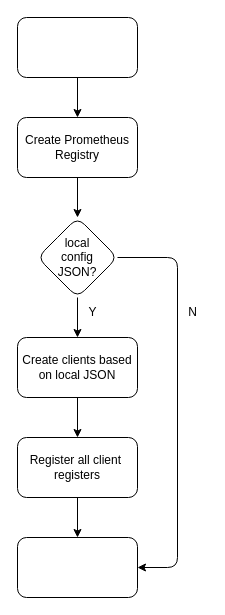
The diagram is 225 pixels wide and 615 high, and some of its shapes have lost their labels. Here are the shapes that lost their labels. From the top down, the centre of each, then its label:
At point 77,47: "Start service".
At point 77,567: "Idle".
